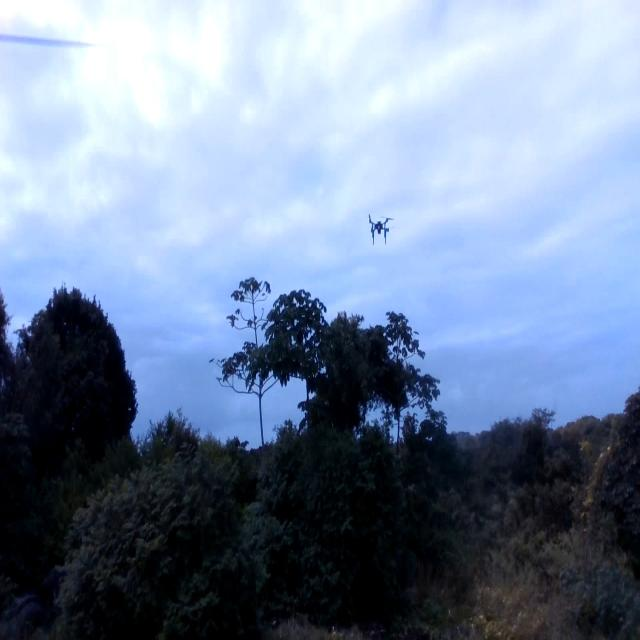-uav-: (362, 202, 397, 248)
